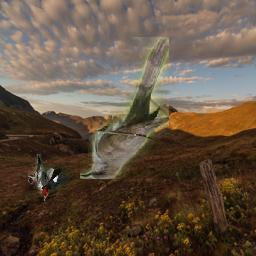Cuckoo: (81, 37, 170, 179)
Woodpecker: (28, 155, 70, 202)
